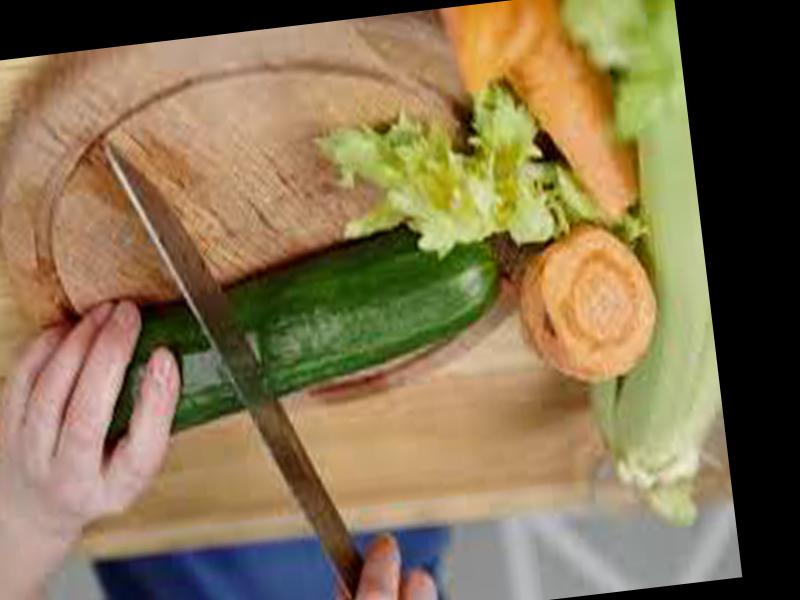Cucumber: (87, 224, 516, 442)
